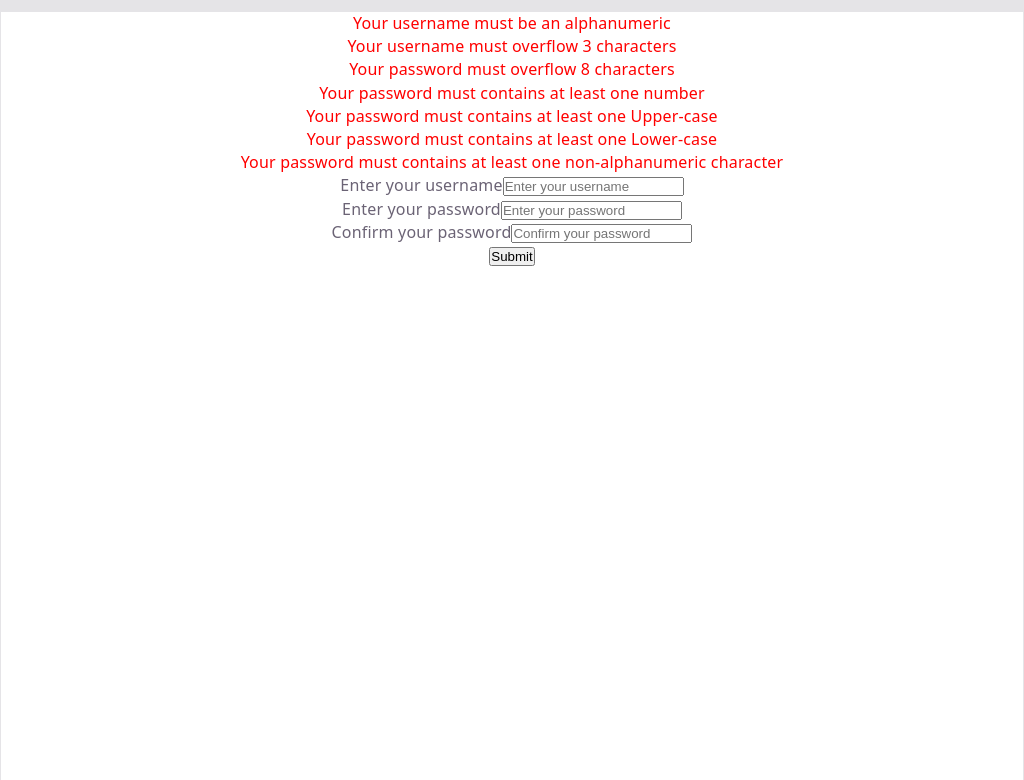
if user type the right i's should be display redirect › the user type an existing username
Type "qqq" into the field labelled "Enter your username" at x=593, y=187, box x1=503 y1=177 x2=684 y2=196
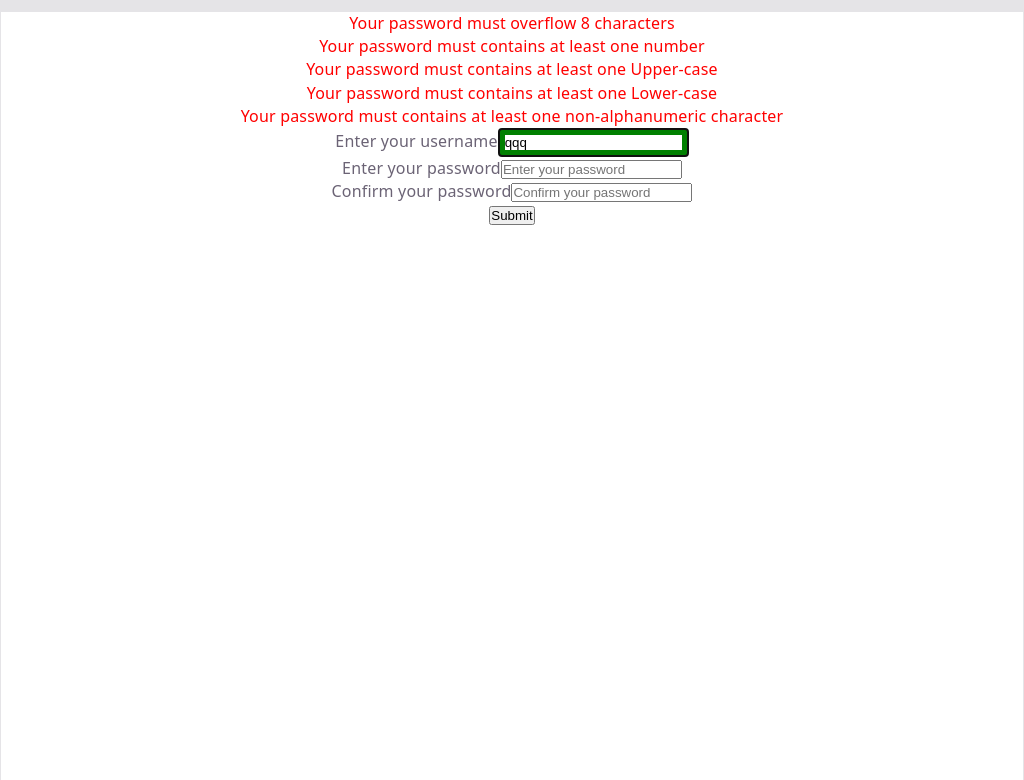
Type "1234567@Aa" into the text "Enter your password" at x=422, y=168, box x1=342 y1=157 x2=501 y2=179
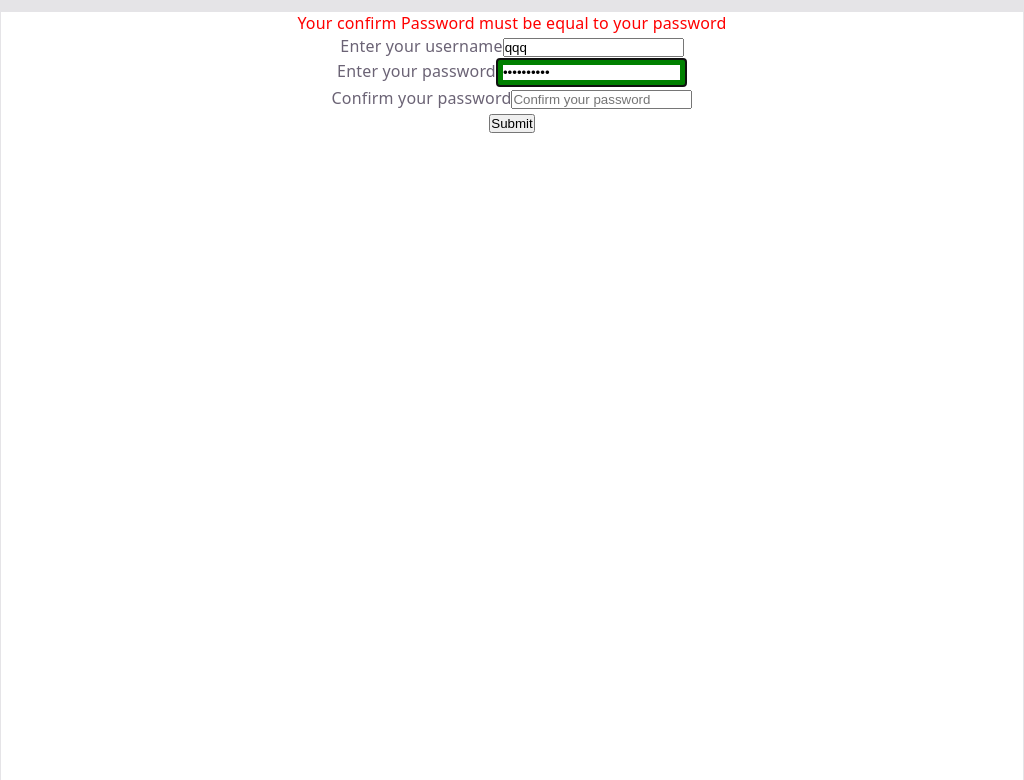
Type "1234567@Aa" into the text "Confirm your password" at x=422, y=98, box x1=332 y1=87 x2=512 y2=109
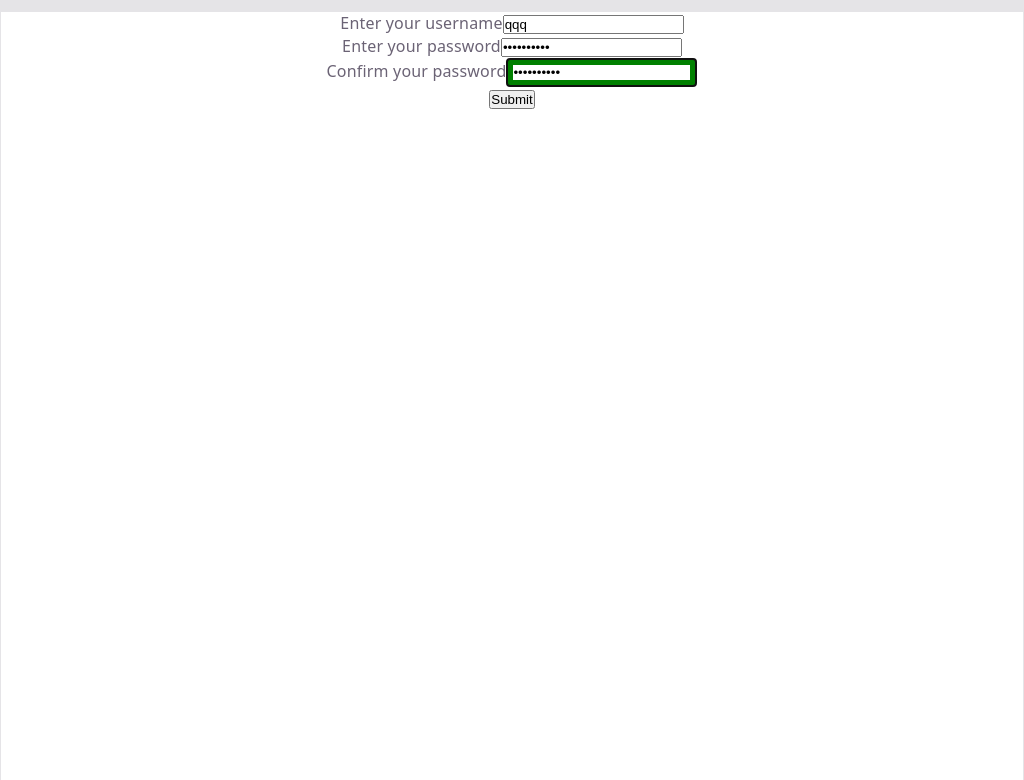
Click the button at x=512, y=100, box x1=489 y1=90 x2=535 y2=109
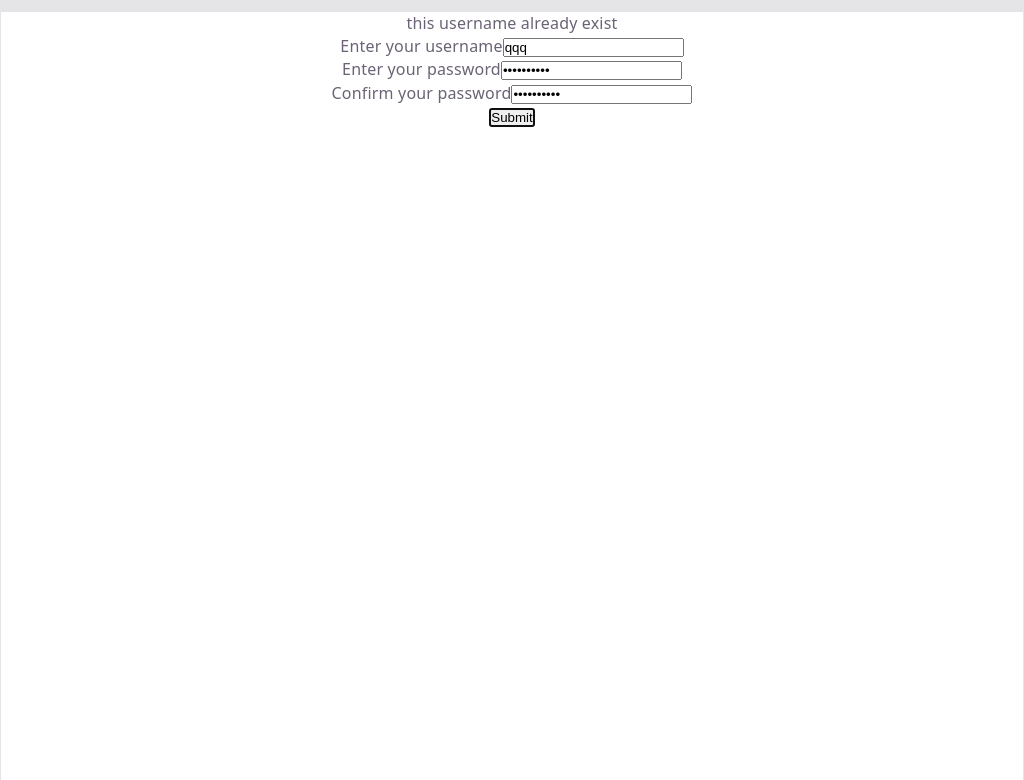
Expected: the list item "this username already exist" is shown, x1=406 y1=12 x2=618 y2=34
